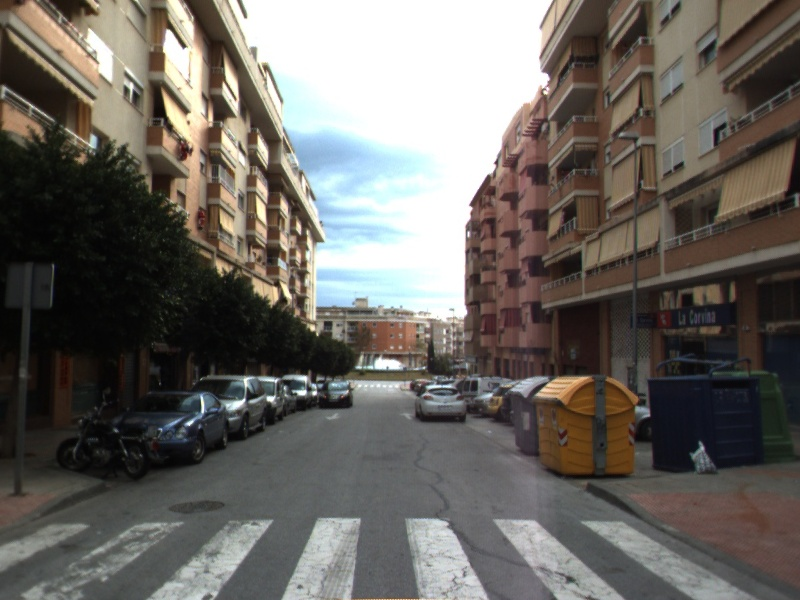STRAIGHT: (398, 410, 416, 421)
